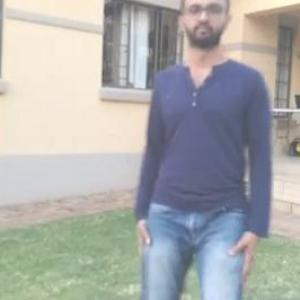follow: (117, 12, 222, 299)
